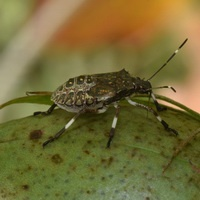insect: (43, 69, 151, 146)
